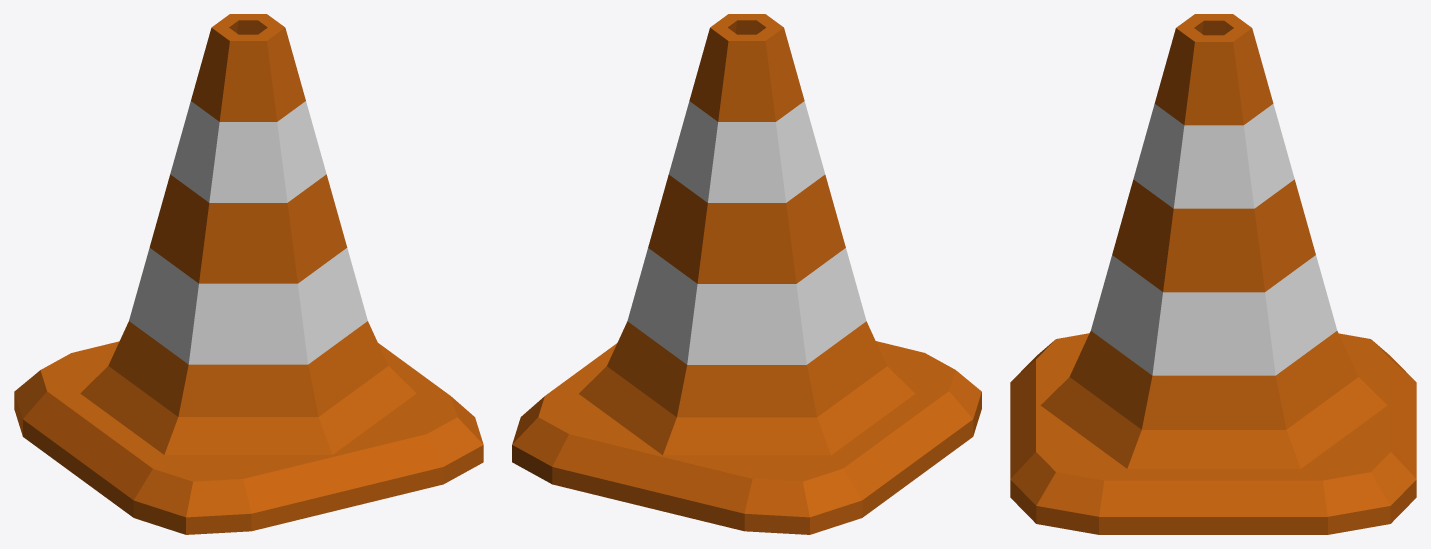
The model's file is Traffic Cone.fbx.
3 renders of one model, left to right at view 1: azimuth 30°, elevation 25°; view 2: azimuth 150°, elevation 25°; view 3: azimuth 270°, elevation 25°, orthographic. The views are drawn at different scales.
Parts seen in each view (by area): view 1: Traffic Cone; view 2: Traffic Cone; view 3: Traffic Cone.
Part boxes in pixels (left/top/right/bottom): Traffic Cone: left=14, top=14, right=483, bottom=534; Traffic Cone: left=512, top=14, right=981, bottom=534; Traffic Cone: left=1010, top=14, right=1416, bottom=534.
Bounding box in the file's own units: 60.89 × 60.89 × 69.58.
